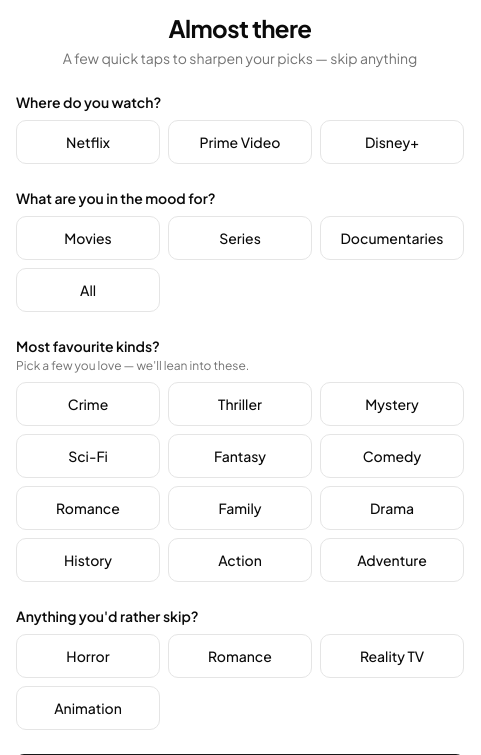
Test: FollowUpQuestions › also shows the Documentary sub-genres section for "All"
What coordinates should you click on to do the following:
click the button "All"
I would click on:
 (88, 290)
Its box is [16,268,160,312].
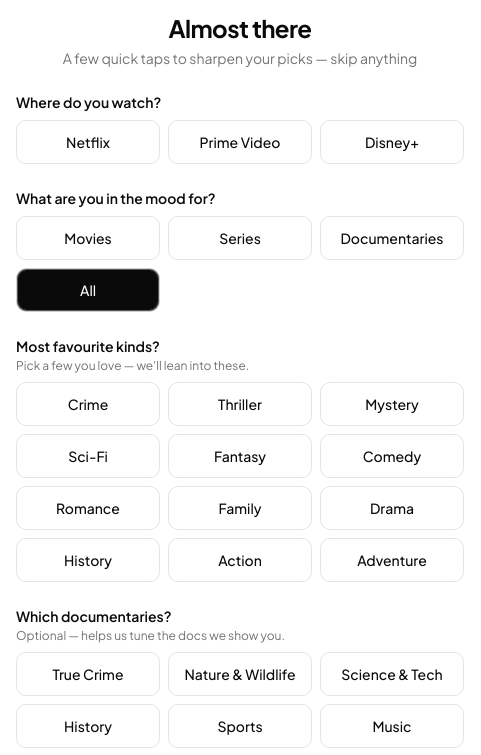
Expected: the button "Nature & Wildlife" is shown, [168,652,312,696]
